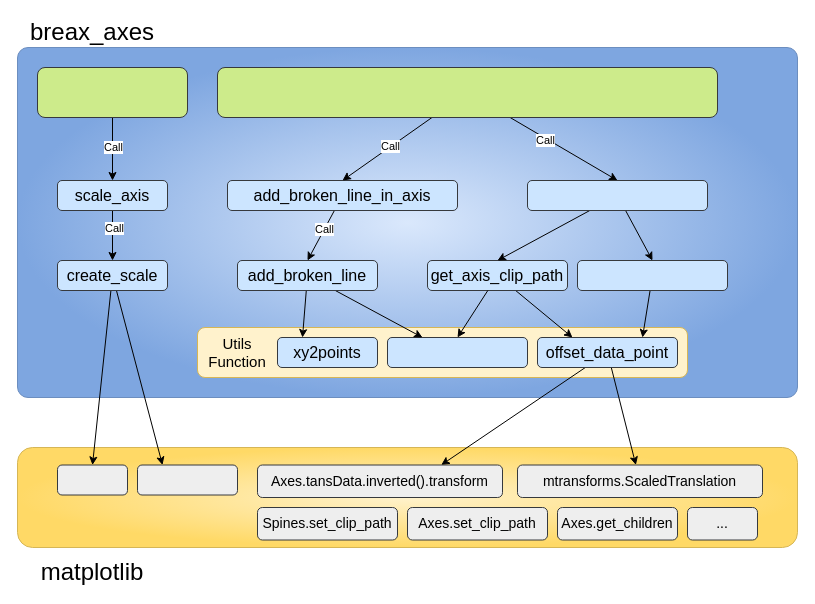
Image size: 815x604. Some labels were removed from this diagram. Each missing label, with the box of its shape:
broken_and_clip_axes: (216, 66, 718, 118)
clip_axes: (526, 180, 708, 210)
FuncScale: (56, 464, 128, 495)
FuncScaleLog: (136, 464, 238, 495)
get_axes_clip_path: (576, 260, 728, 290)
get_broken_points: (386, 336, 528, 368)
scale_axes: (36, 66, 188, 118)
